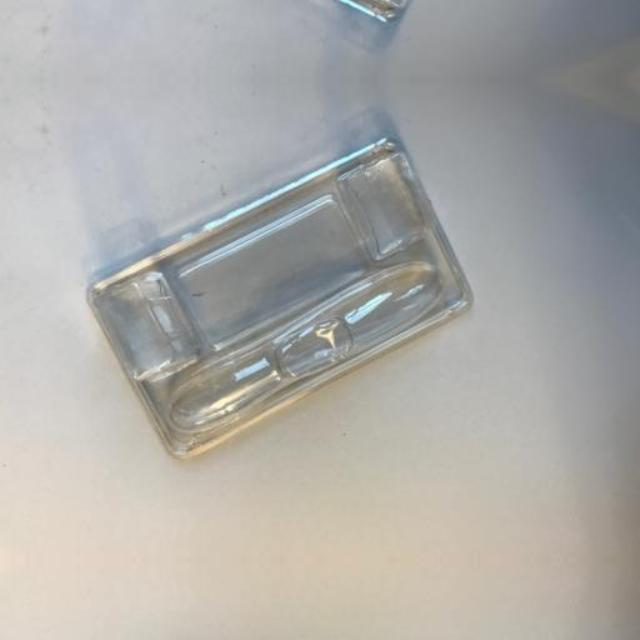Plastic: (74, 132, 486, 466), (73, 0, 486, 27)
